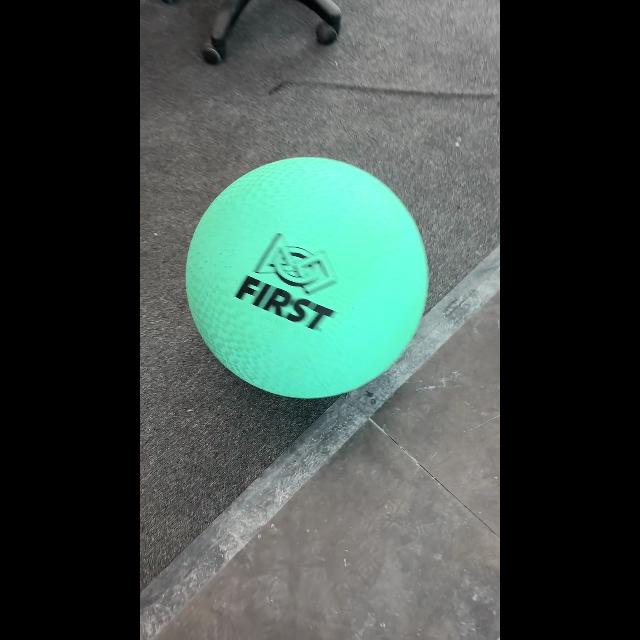ALGAE: (184, 156, 430, 400)
